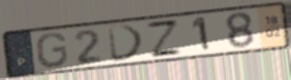1: (190, 15, 212, 52)
2: (73, 28, 104, 66)
8: (224, 11, 257, 50)
D: (106, 23, 147, 64)
G: (35, 31, 70, 69)
Z: (144, 19, 184, 59)
